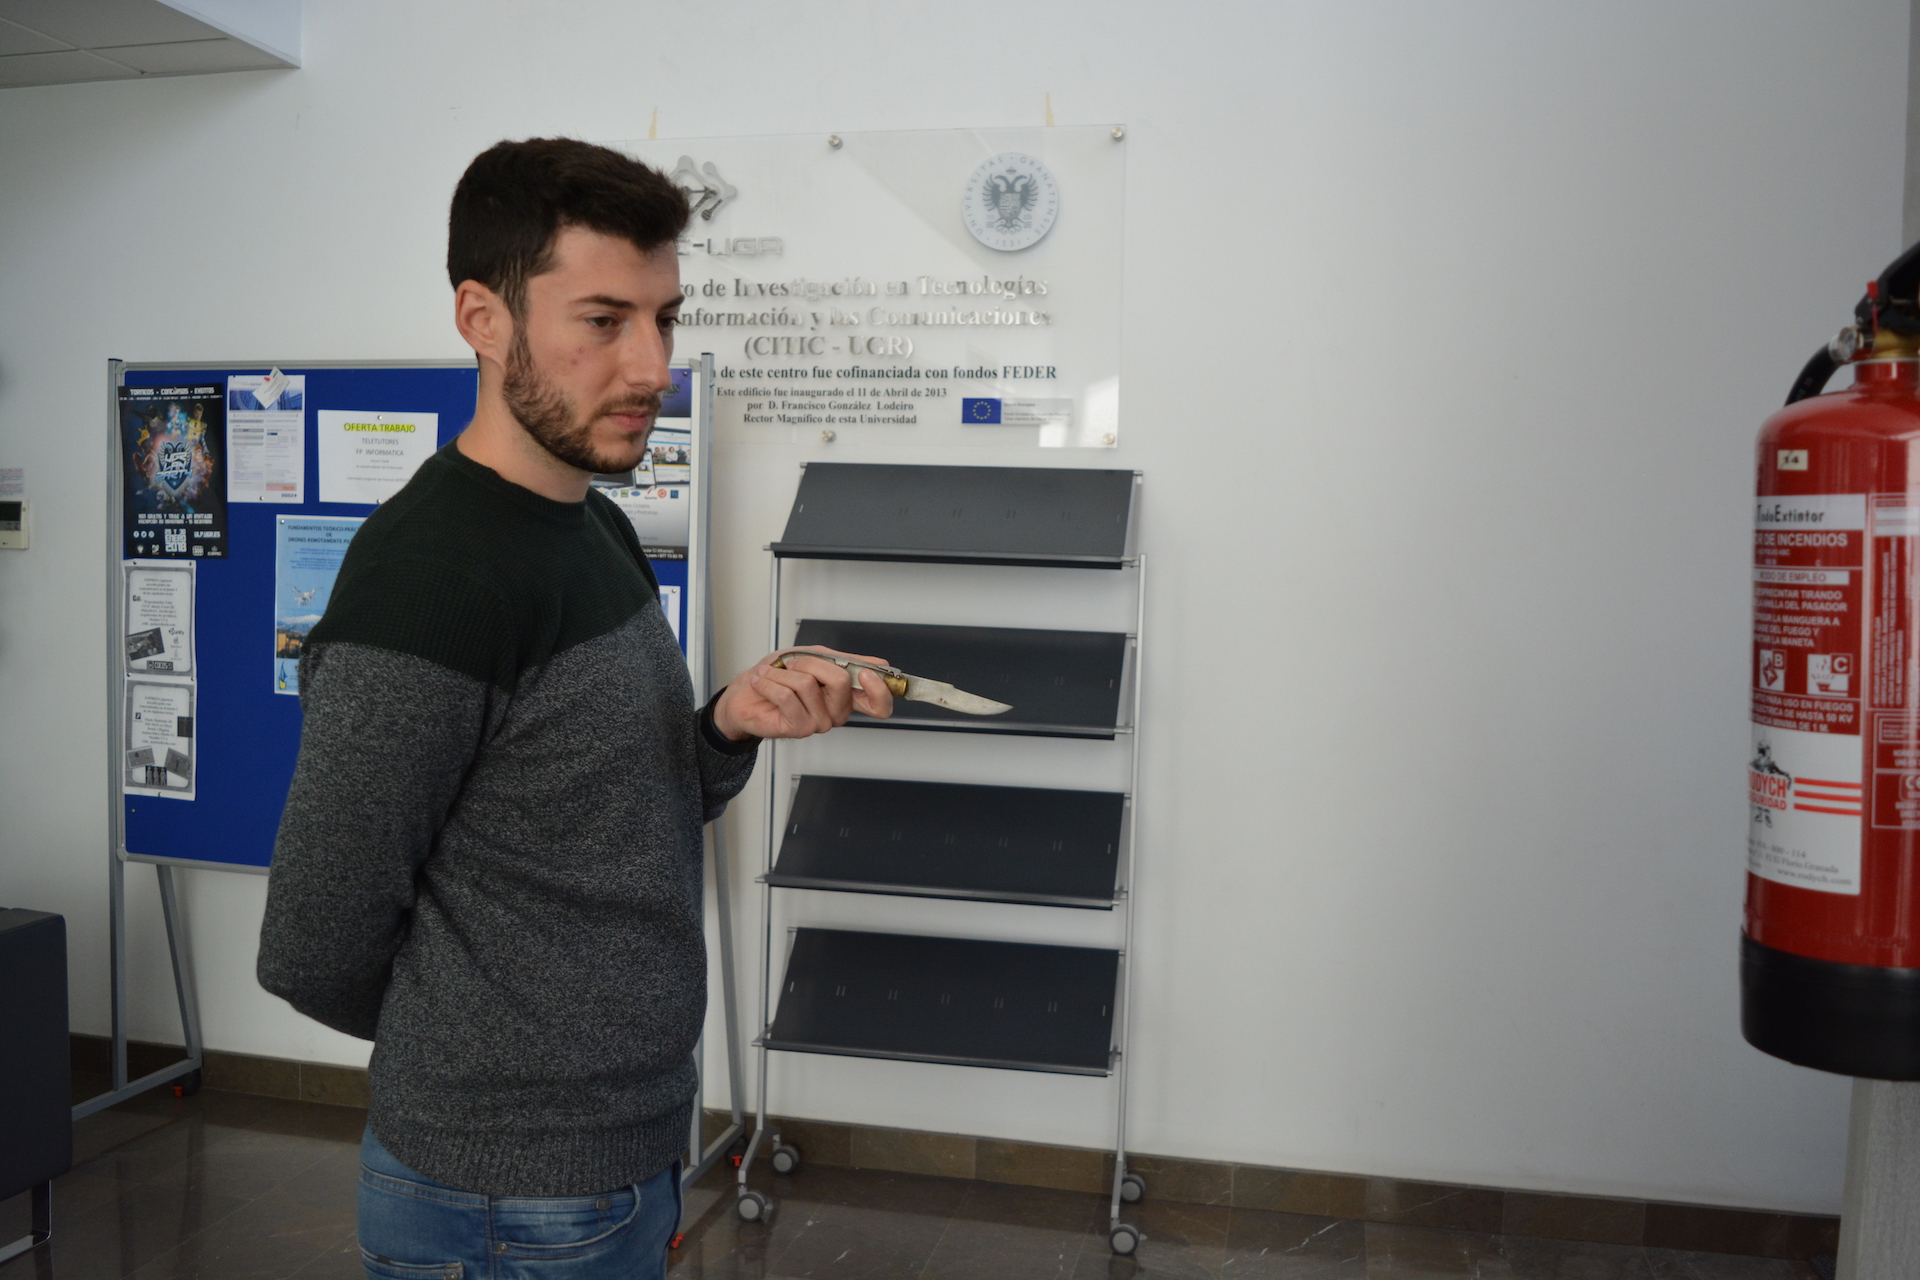knife: (767, 639, 1026, 726)
